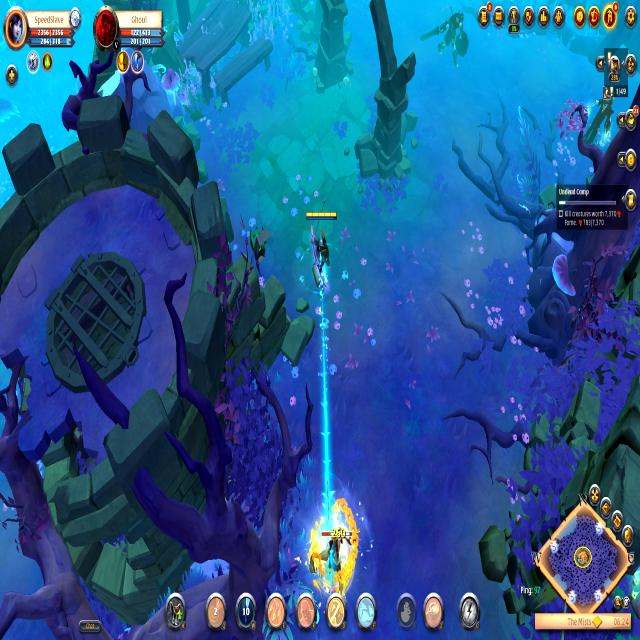ore: (306, 518, 362, 588), (418, 8, 471, 73), (580, 94, 615, 160)
red: (303, 202, 338, 286)
